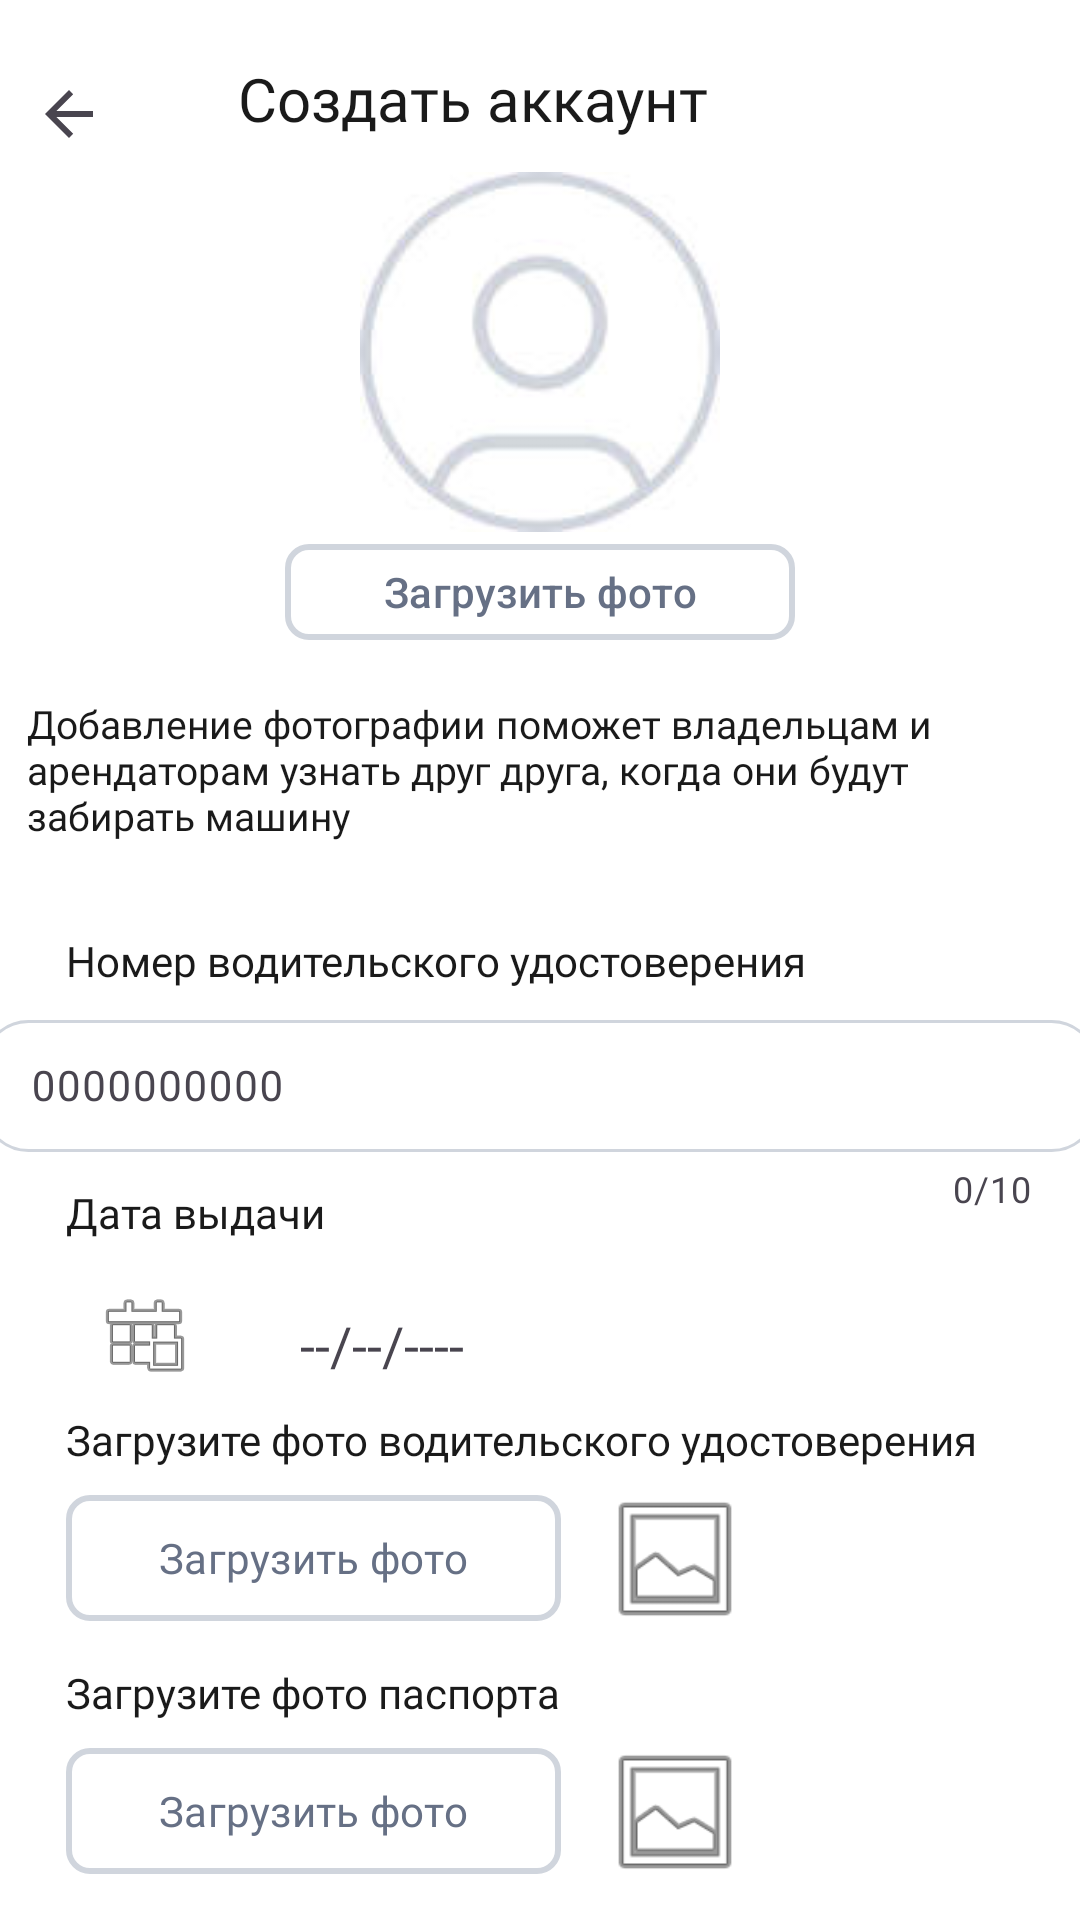

Named icons in this screenshot (1080x1920) and their centers, (x=x, y=y):
gallery: (x=675, y=1559), (x=675, y=1812)
today: (x=145, y=1335)
